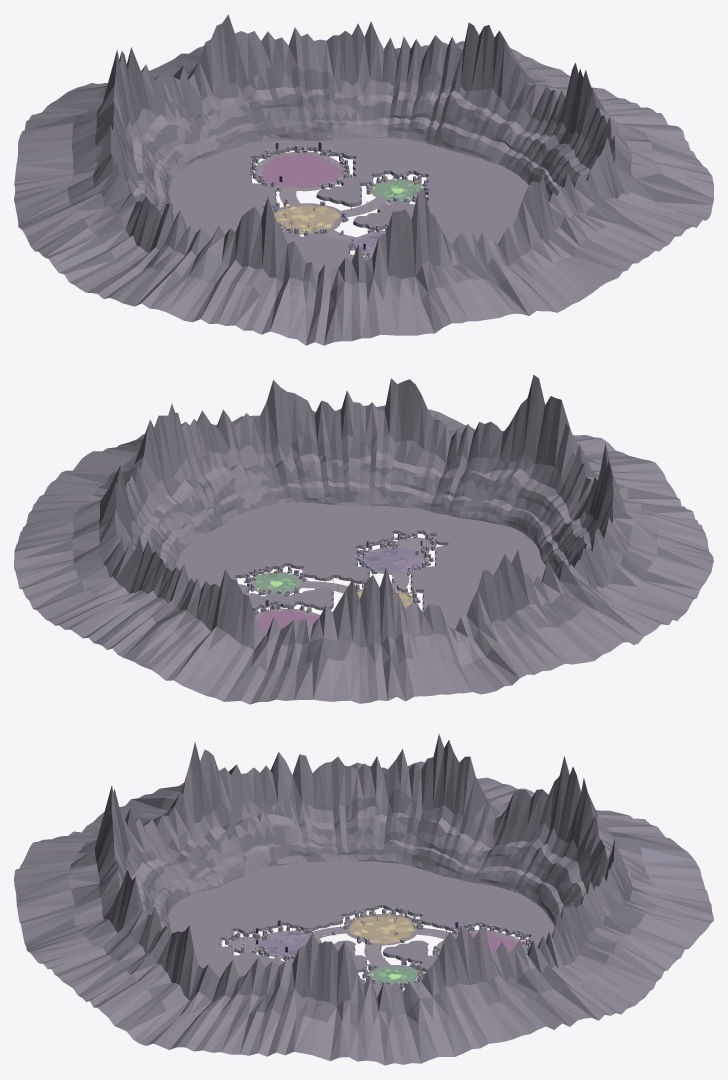
Rendered from map_dg_slayers.glb.
The picture shows the model from 3 angles, top to bottom: view 1: azimuth 30°, elevation 25°; view 2: azimuth 150°, elevation 25°; view 3: azimuth 270°, elevation 25°; orthographic projection.
Parts seen in each view (by area): view 1: Z_dg_slayers_penhascos, Z_dg_slayers_morro_parede_0_0, Z_dg_slayers_chao_mestre, Z_dg_slayers_chao_galeria, Z_dg_slayers_praca_mestre, Z_dg_slayers_chao_venenos; view 2: Z_dg_slayers_penhascos, Z_dg_slayers_morro_parede_0_0, Z_dg_slayers_chao_vestibulo, Z_dg_slayers_chao_mestre, Z_dg_slayers_chao_venenos; view 3: Z_dg_slayers_penhascos, Z_dg_slayers_morro_parede_0_0, Z_dg_slayers_chao_galeria, Z_dg_slayers_chao_vestibulo, Z_dg_slayers_det_obj_-1_-1.
Part boxes in pixels (left/top/right/bottom): Z_dg_slayers_penhascos: left=14, top=14, right=713, bottom=345; Z_dg_slayers_morro_parede_0_0: left=168, top=137, right=528, bottom=273; Z_dg_slayers_chao_mestre: left=260, top=153, right=343, bottom=188; Z_dg_slayers_chao_galeria: left=273, top=205, right=339, bottom=232; Z_dg_slayers_praca_mestre: left=255, top=151, right=344, bottom=191; Z_dg_slayers_chao_venenos: left=371, top=180, right=422, bottom=200; Z_dg_slayers_penhascos: left=14, top=375, right=713, bottom=704; Z_dg_slayers_morro_parede_0_0: left=177, top=502, right=545, bottom=629; Z_dg_slayers_chao_vestibulo: left=362, top=548, right=421, bottom=573; Z_dg_slayers_chao_mestre: left=257, top=611, right=317, bottom=632; Z_dg_slayers_chao_venenos: left=251, top=573, right=301, bottom=593; Z_dg_slayers_penhascos: left=14, top=734, right=713, bottom=1065; Z_dg_slayers_morro_parede_0_0: left=168, top=861, right=554, bottom=997; Z_dg_slayers_chao_galeria: left=349, top=916, right=413, bottom=943; Z_dg_slayers_chao_vestibulo: left=258, top=932, right=310, bottom=957; Z_dg_slayers_det_obj_-1_-1: left=357, top=906, right=446, bottom=944.
Bounding box in the file's own units: 281 × 59.59 × 282.
